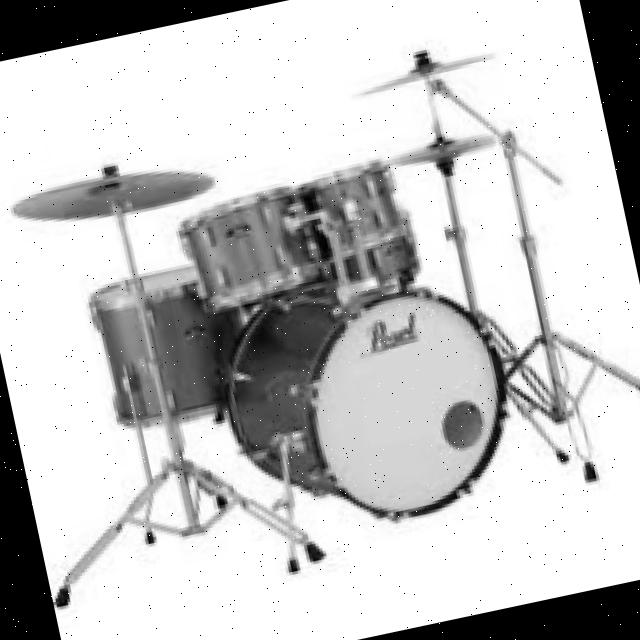drums: (0, 9, 640, 638)
